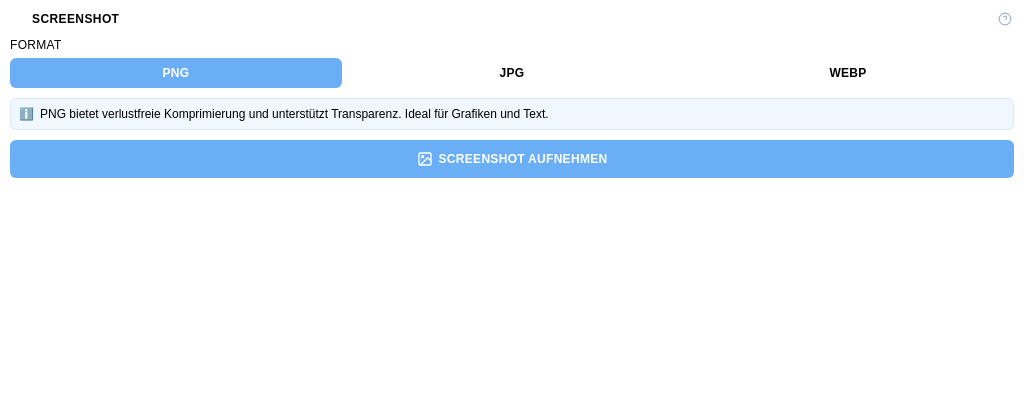
Test: ScreenshotPanel – Aufnahme über die Render-Schleife › PNG: ruft die registrierte Funktion und zeigt die Vorschau
The width and height of the screenshot is (1024, 401).
Click the button with class "btn-screenshot" at (512, 159), box [10,140,1014,178]
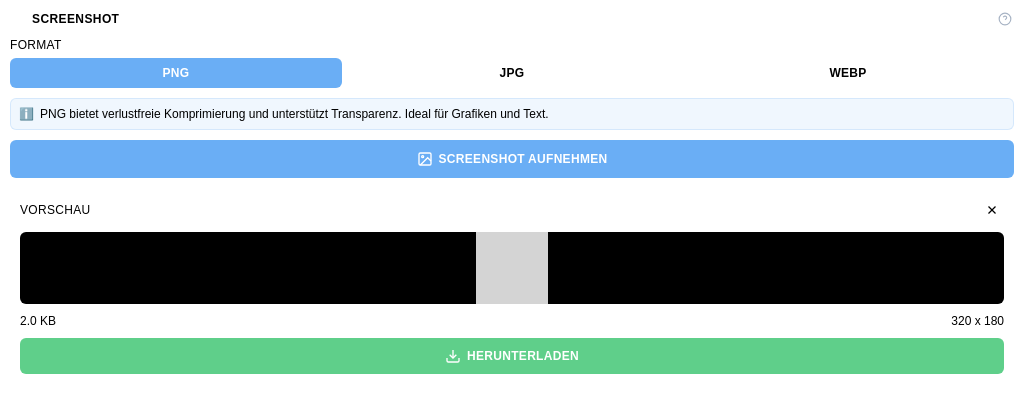
Result: the element showing "Vorschau 2.0 KB 320 x 180 Herunterladen" is shown at [10,188,1014,384]
